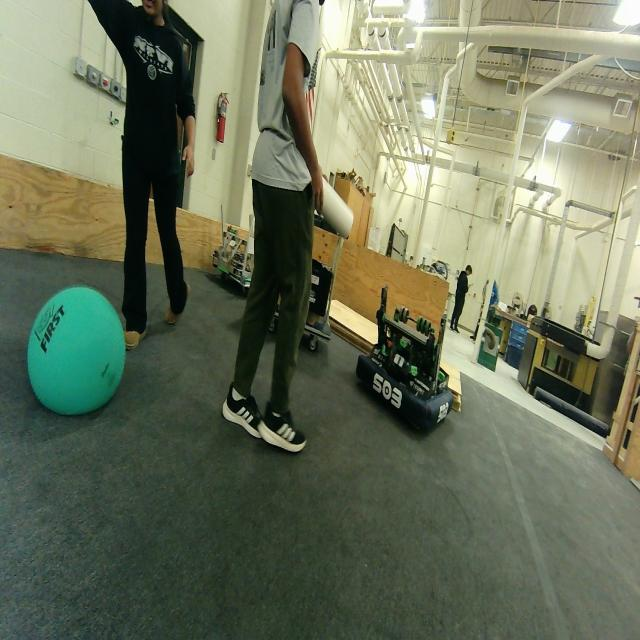algae: (31, 285, 125, 414)
